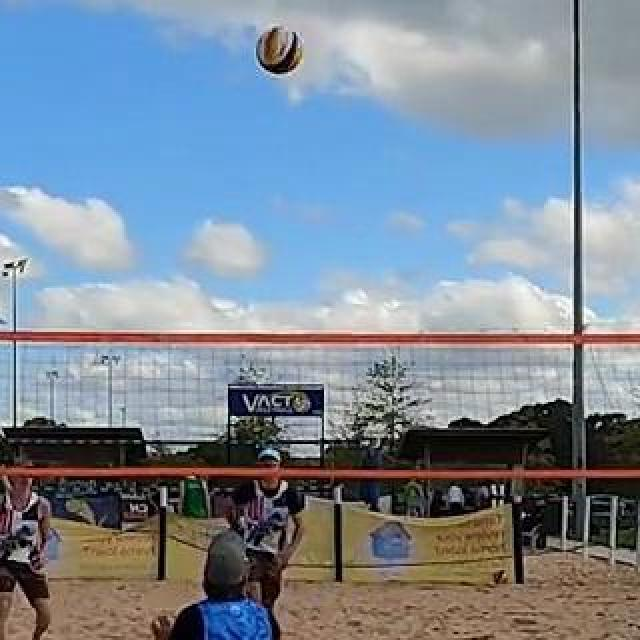volleyball: (255, 26, 303, 76), (492, 569, 508, 583)
